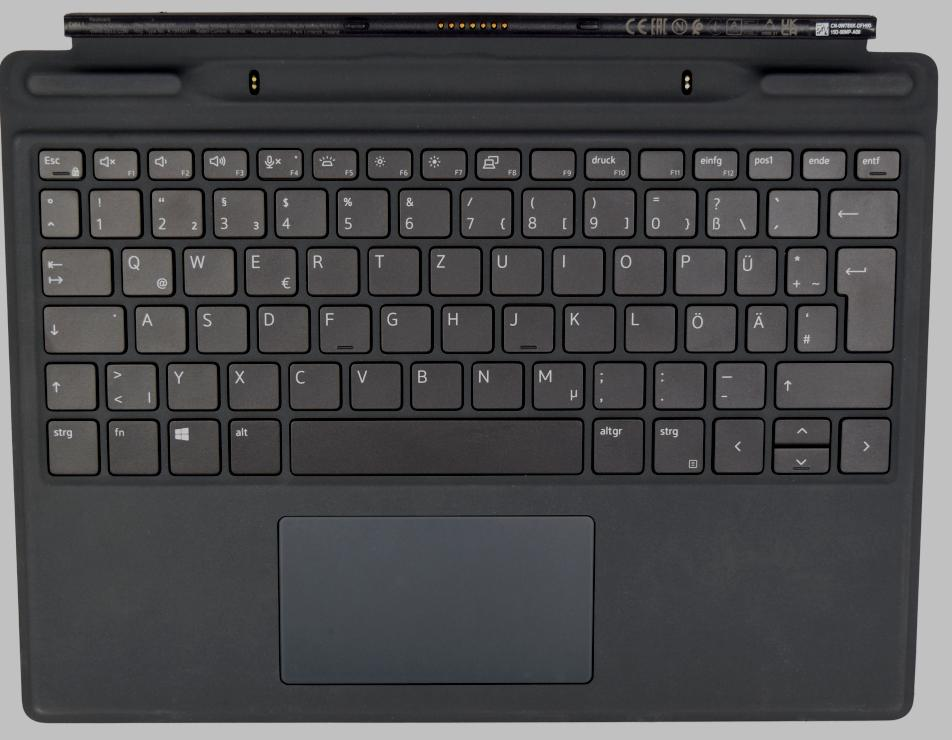0: (642, 185, 697, 237)
1: (87, 186, 141, 237)
2: (147, 186, 204, 237)
3: (209, 185, 266, 237)
4: (272, 185, 326, 236)
5: (333, 185, 389, 236)
6: (395, 185, 451, 236)
7: (458, 185, 512, 237)
8: (519, 185, 573, 237)
9: (580, 185, 635, 237)
a: (132, 302, 187, 353)
accent: (764, 186, 818, 236)
ae: (743, 301, 786, 351)
alt-left: (225, 416, 281, 475)
altgr-right: (589, 415, 644, 473)
b: (407, 359, 462, 409)
c: (286, 359, 341, 410)
caret: (37, 186, 79, 237)
comma: (590, 358, 644, 408)
d: (255, 301, 309, 353)
del: (826, 185, 899, 236)
e: (242, 244, 297, 296)
enter: (833, 244, 895, 352)
f: (316, 302, 371, 353)
g: (377, 302, 431, 353)
h: (438, 302, 493, 352)
hash: (793, 301, 835, 351)
i: (549, 243, 603, 294)
j: (499, 301, 554, 352)
k: (561, 301, 615, 352)
keyboard: (13, 128, 924, 493)
l: (622, 301, 676, 352)
less: (102, 359, 158, 410)
m: (529, 358, 584, 409)
minus: (710, 358, 765, 408)
n: (469, 359, 523, 410)
o: (610, 244, 665, 295)
oe: (682, 302, 736, 352)
p: (671, 244, 726, 295)
plus: (782, 243, 826, 294)
point: (650, 358, 705, 408)
q: (118, 244, 175, 296)
r: (303, 244, 359, 296)
s: (193, 302, 248, 353)
shift-left: (42, 359, 95, 410)
shift-lock: (41, 301, 125, 353)
shift-right: (773, 356, 892, 408)
space: (288, 414, 581, 475)
ss: (702, 185, 757, 237)
strg-left: (43, 416, 98, 475)
strg-right: (650, 415, 704, 474)
t: (366, 244, 420, 295)
tab: (38, 243, 110, 295)
u: (487, 244, 542, 295)
ue: (733, 244, 776, 295)
v: (348, 359, 402, 410)
w: (180, 244, 235, 296)
x: (225, 359, 280, 410)
y: (164, 359, 219, 410)
z: (427, 244, 482, 295)
